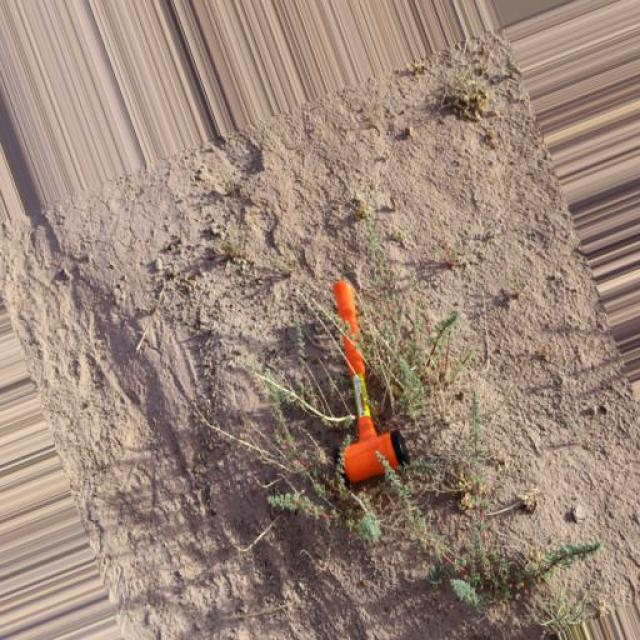mallet: (332, 277, 412, 485)
